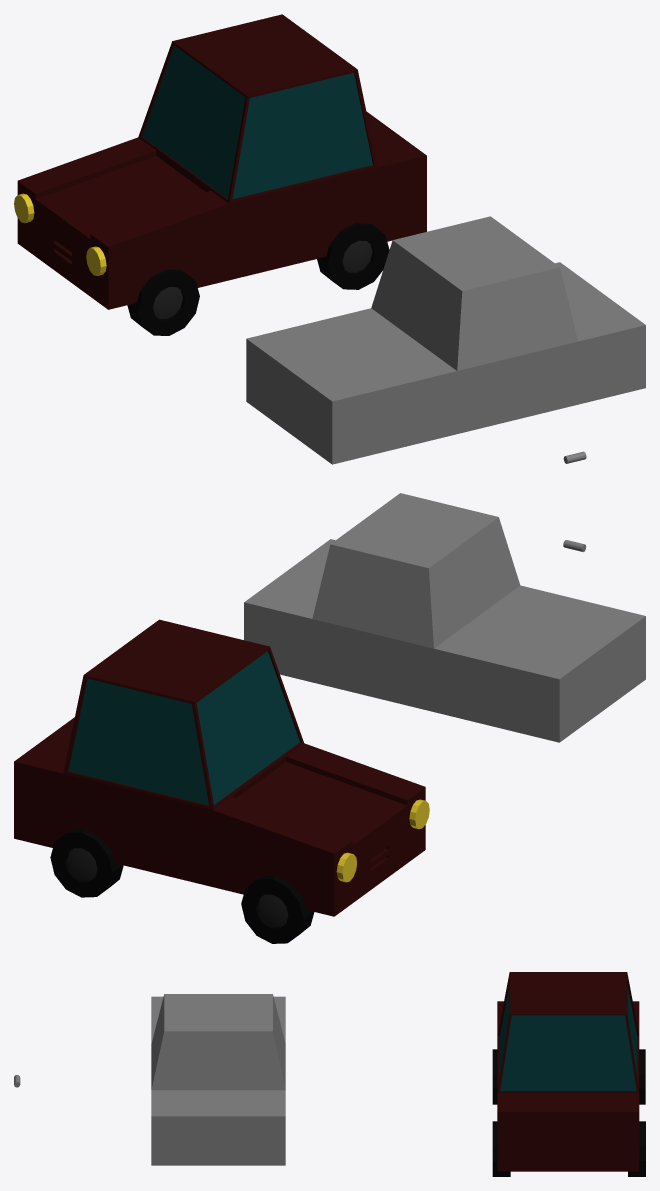
The model's file is Bullet.obj.
3 views of the same model, one above another, from view 1: azimuth 30°, elevation 25°; view 2: azimuth 150°, elevation 25°; view 3: azimuth 270°, elevation 25° (orthographic). The views are drawn at different scales.
Visible parts, largest first — view 1: pCylinder8, pCube2; view 2: pCylinder8, pCube2; view 3: pCylinder8, pCube2.
Part boxes in pixels (x1=…): pCylinder8: x1=14, y1=14, x2=426, y2=335; pCube2: x1=246, y1=216, x2=645, y2=464; pCylinder8: x1=14, y1=619, x2=429, y2=943; pCube2: x1=244, y1=493, x2=645, y2=742; pCylinder8: x1=492, y1=972, x2=645, y2=1176; pCube2: x1=151, y1=994, x2=285, y2=1165.
Bounding box in the file's own units: 15.12 × 9.36 × 32.66.
